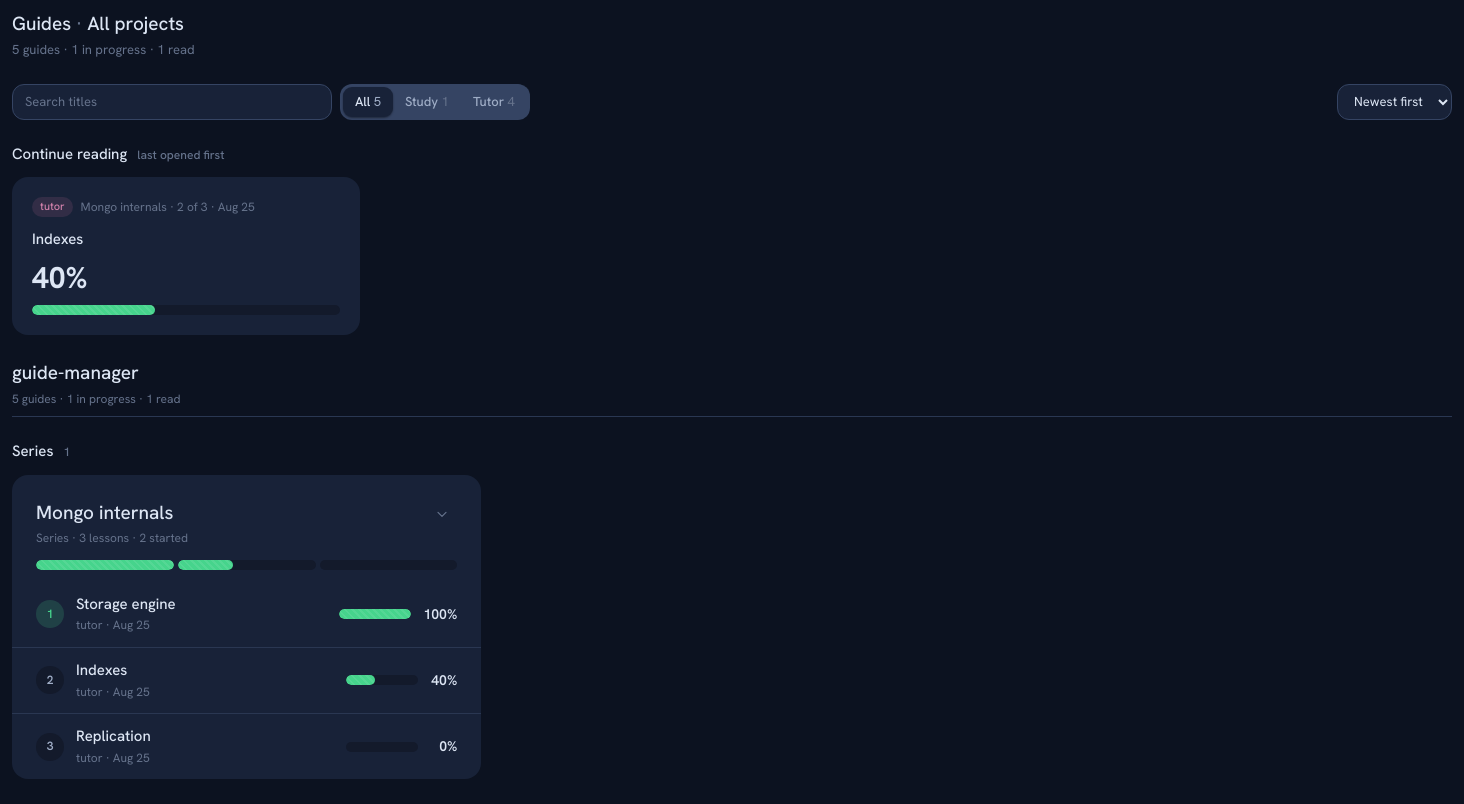
Test case: GuidesView series sheets › drops an emptied sheet whole, title included
Select "Newest first" in the dropdown named "Sort" at {"x": 1394, "y": 102}, box [1337,84,1452,120]
Click the button "Study 1".
click(427, 102)  # box [393,86,461,116]
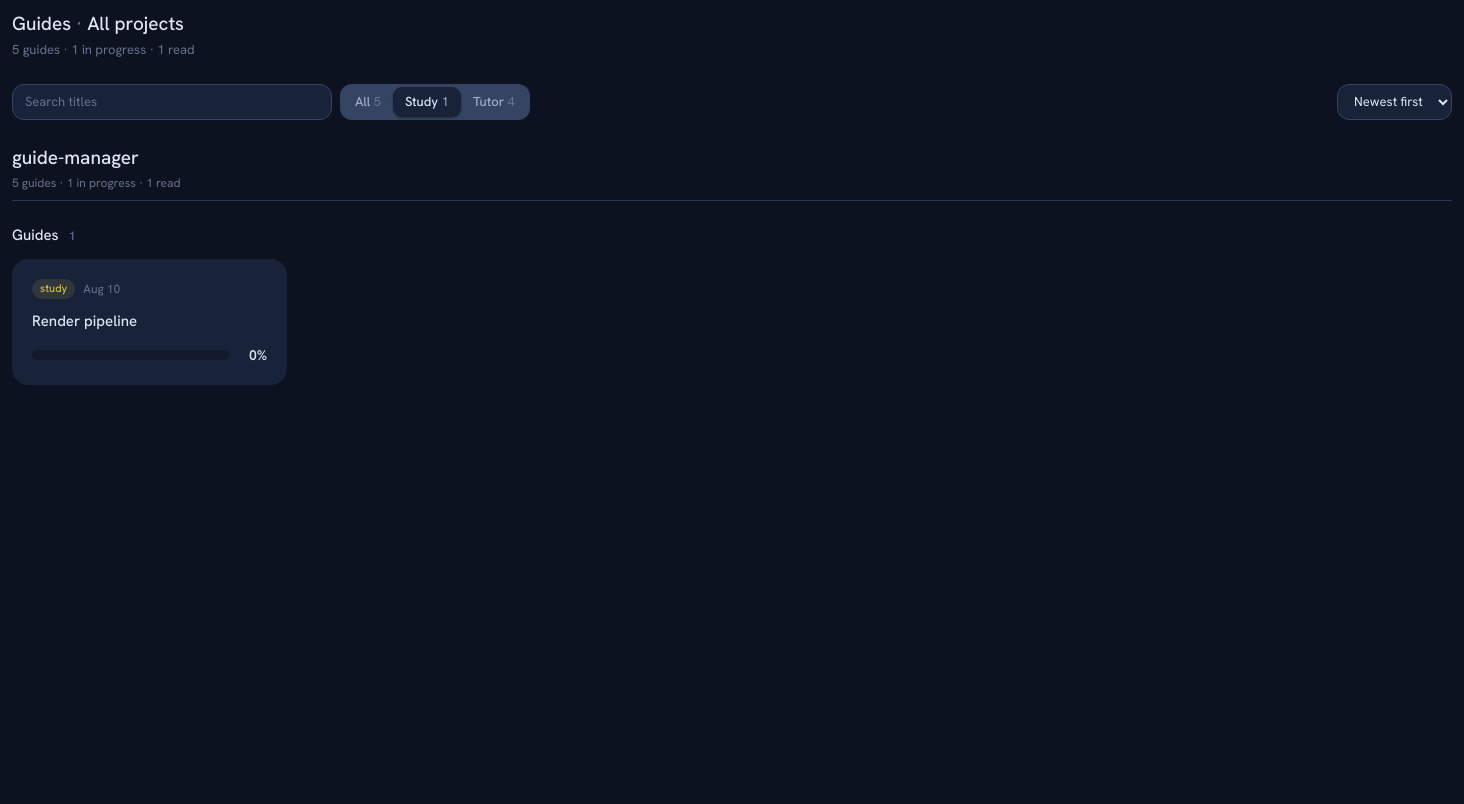
Expected: the element with class "series-sheet" is gone
